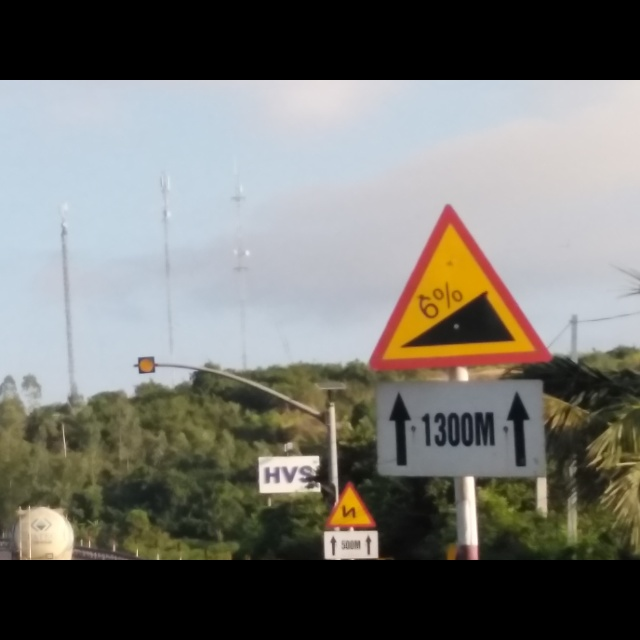Dốc lên nguy hiểm: (368, 195, 554, 367)
Ngoặt nguy hiểm liên tiếp bên phải: (324, 481, 377, 529)
